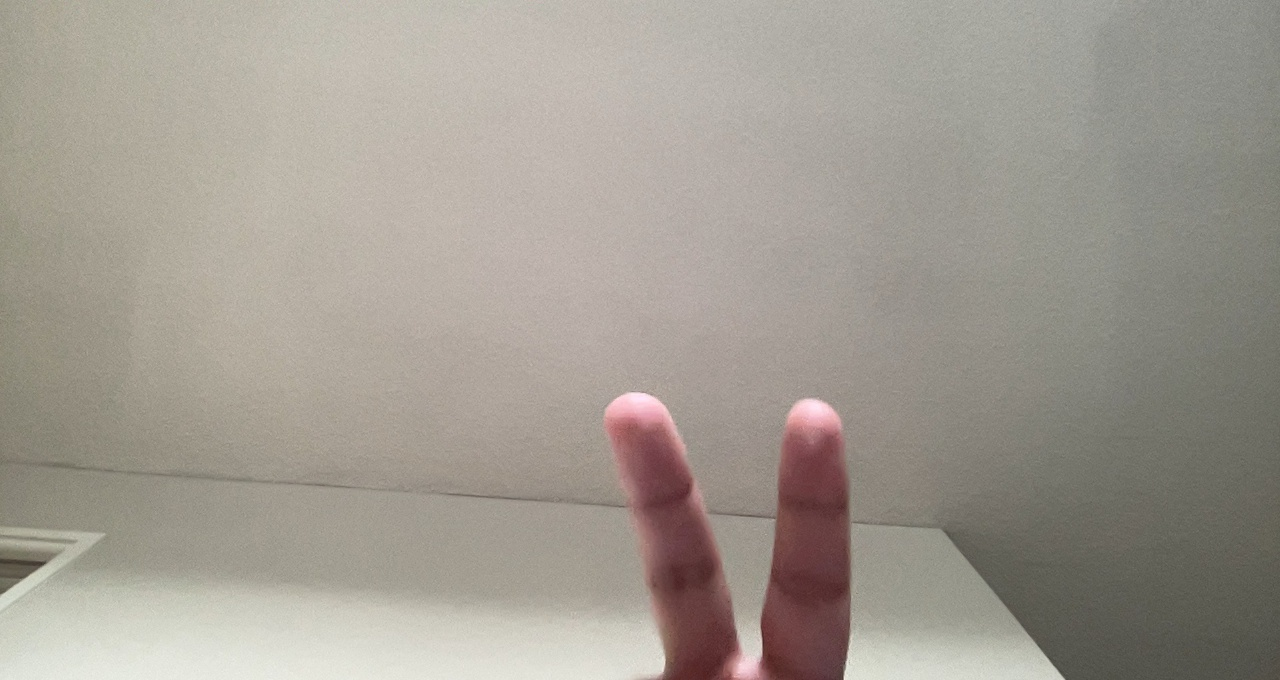peace sign: (578, 375, 871, 675)
